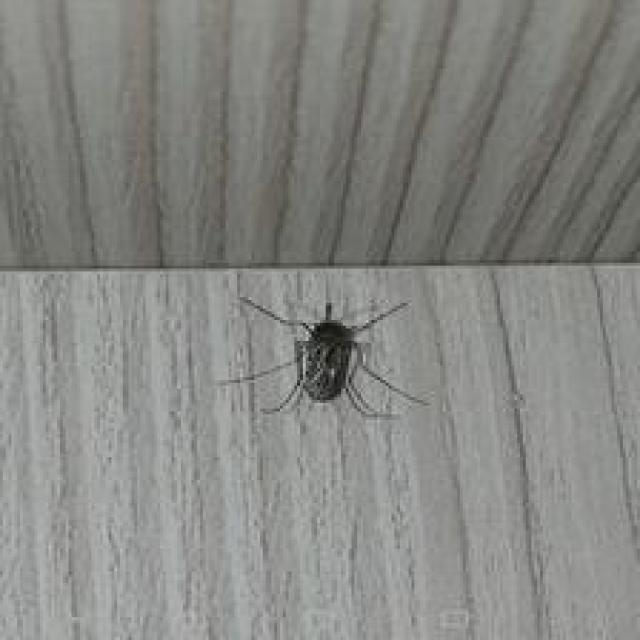Culex: (219, 293, 430, 418)
